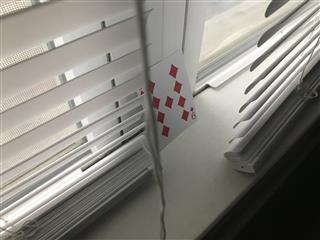NineOfDiamonds: (136, 49, 198, 150)
